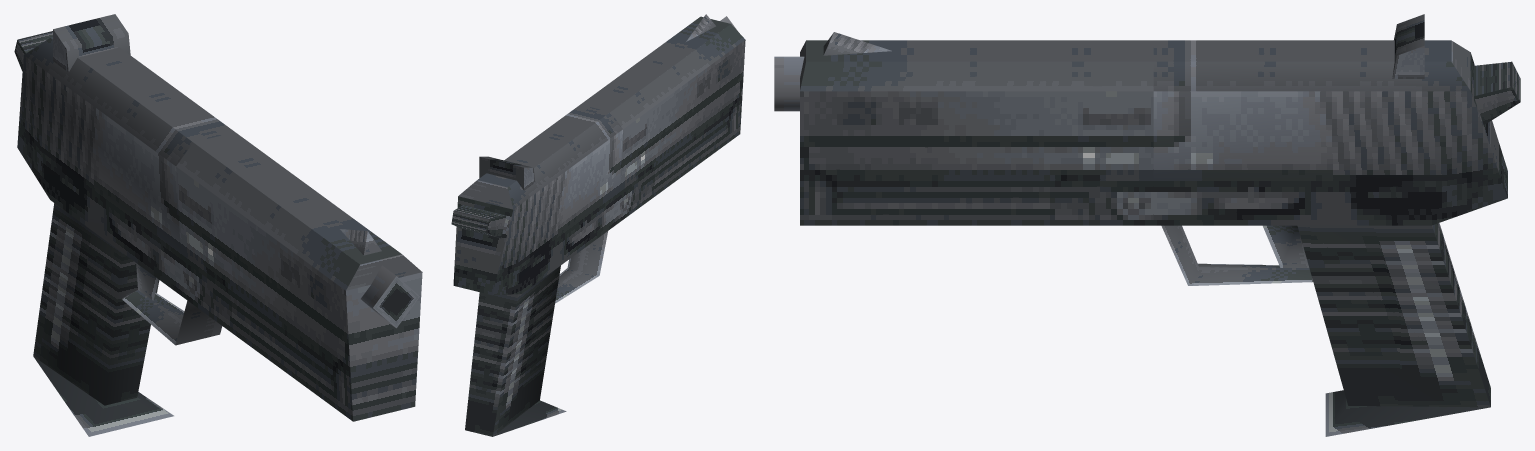
File: GUNGUN00.obj
3 renders of one model, left to right at view 1: azimuth 30°, elevation 25°; view 2: azimuth 150°, elevation 25°; view 3: azimuth 270°, elevation 25°, orthographic. The views are drawn at different scales.
Parts seen in each view (by area): view 1: GUNGUN00; view 2: GUNGUN00; view 3: GUNGUN00.
Part boxes in pixels (x1,y1,x2,y2): GUNGUN00: [14, 14, 422, 436]; GUNGUN00: [451, 14, 745, 436]; GUNGUN00: [774, 14, 1520, 436].
Bounding box in the file's own units: 0.7278 × 3 × 5.27.
1 material, 1 textured.
